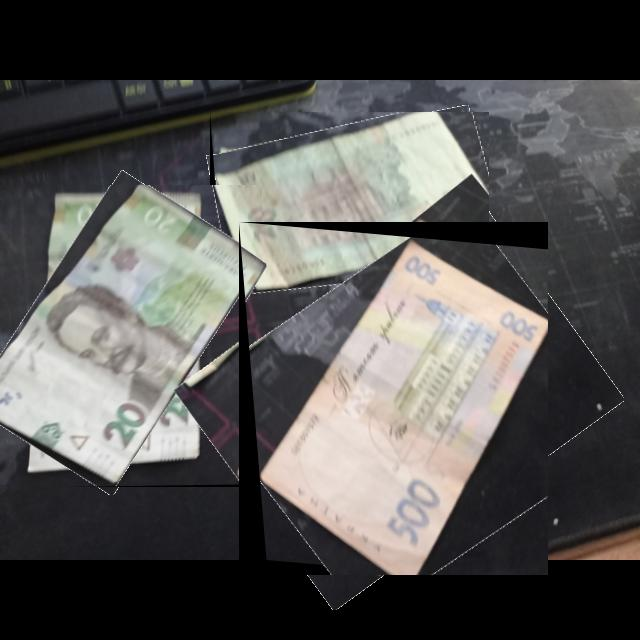20uah: (0, 185, 262, 487), (214, 112, 490, 288)
500uah: (255, 234, 549, 576)
